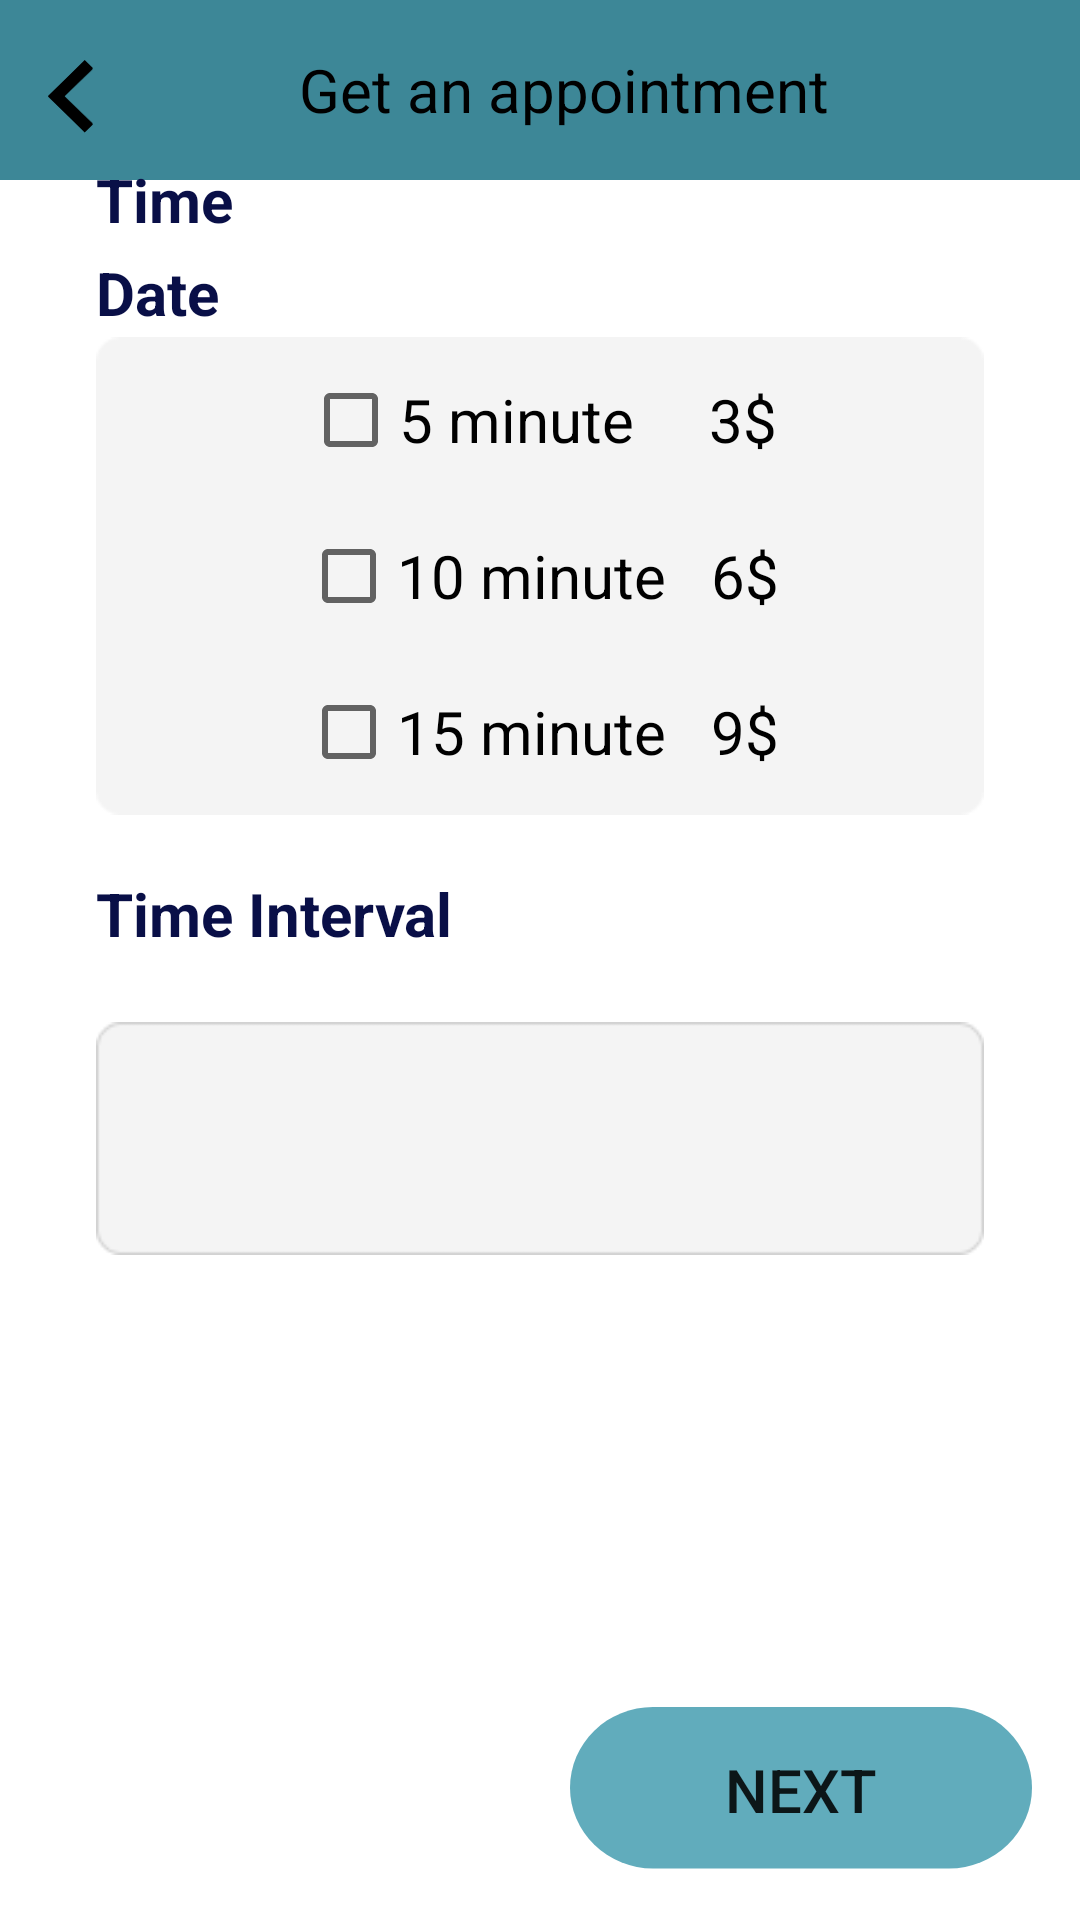

Point at icon controls on the screen. Image size 1080px x 1920px, points as [x,y].
back: [70,96]
